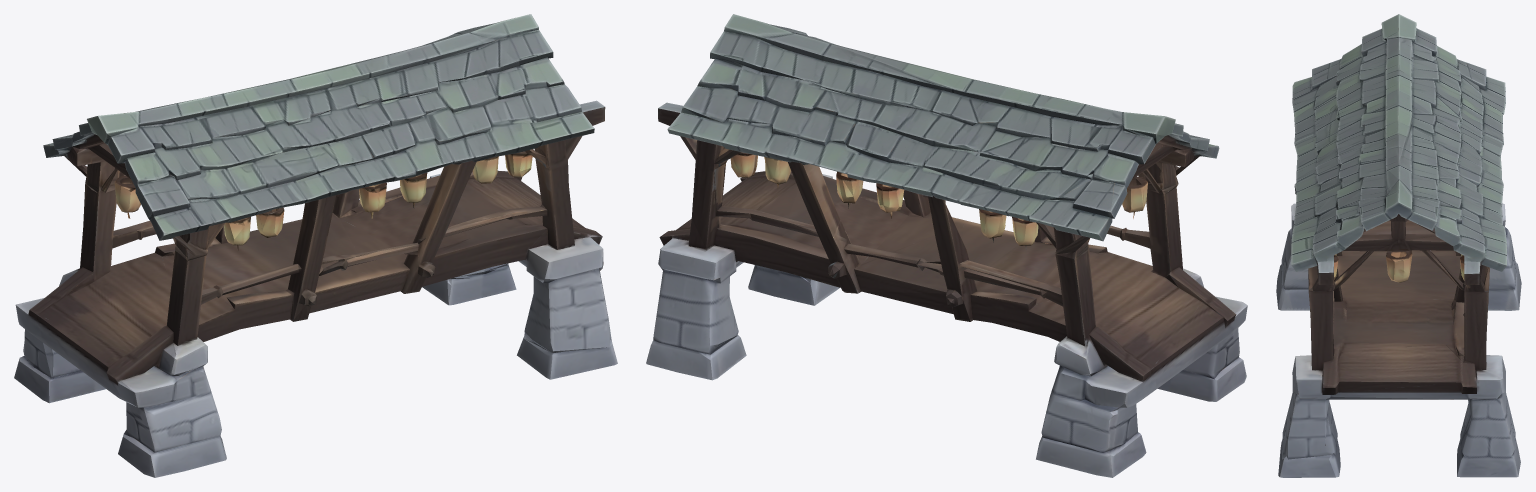
The model's file is covered_bridge.glb.
3 renders of one model, left to right at view 1: azimuth 30°, elevation 25°; view 2: azimuth 150°, elevation 25°; view 3: azimuth 270°, elevation 25°, orthographic. The views are drawn at different scales.
Parts seen in each view (by area): view 1: covered_bridge; view 2: covered_bridge; view 3: covered_bridge.
Boxes of the visible parts, <box> form: covered_bridge: <box>14,14,617,477</box>; covered_bridge: <box>646,14,1247,477</box>; covered_bridge: <box>1276,14,1521,477</box>.
Bounding box in the file's own units: 9.11 × 5.5 × 4.52.
1 material, 1 textured.
